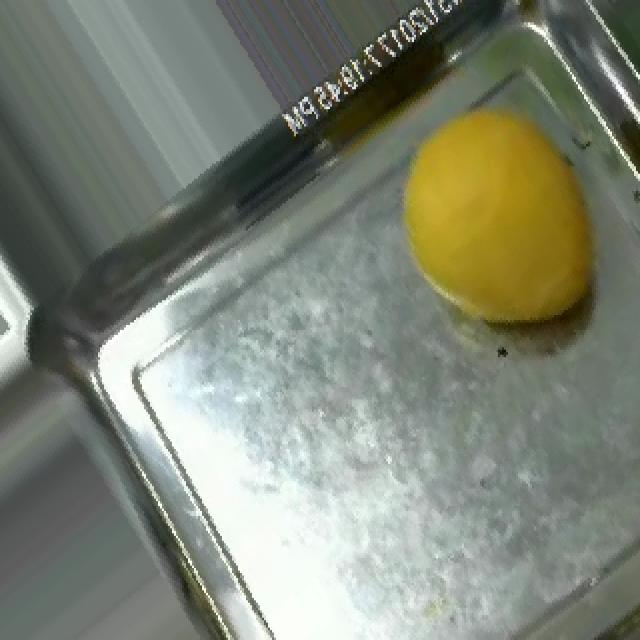fruit: (328, 55, 640, 382)
